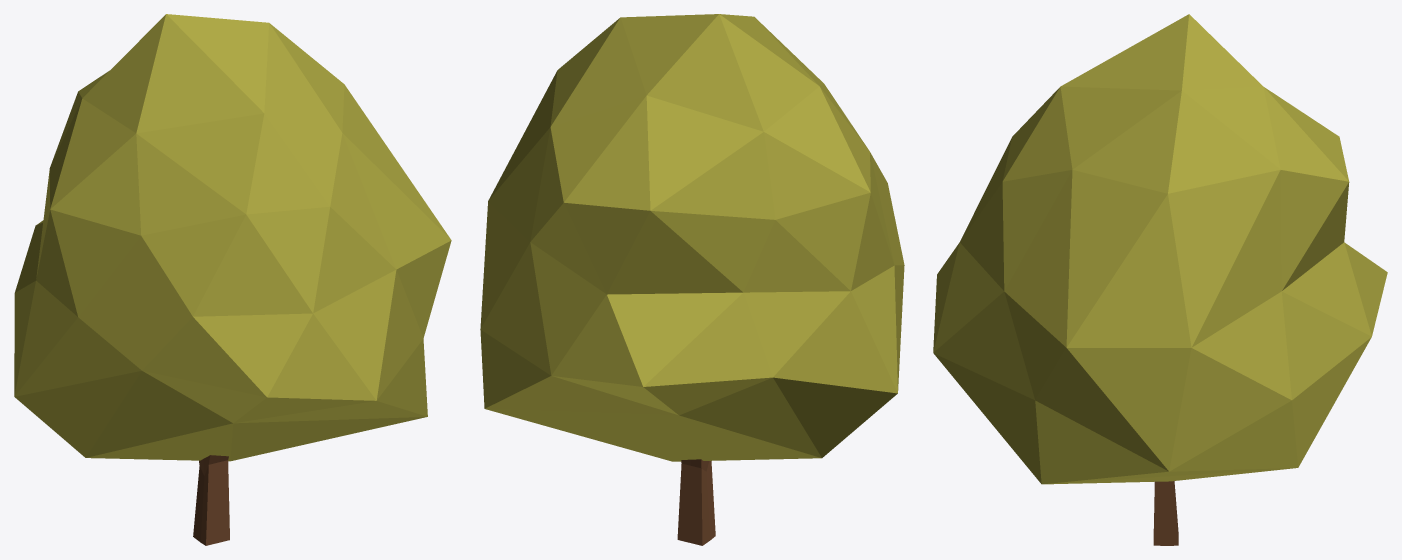
The model's file is Tree_57_Yellow.fbx.
3 renders of one model, left to right at view 1: azimuth 30°, elevation 25°; view 2: azimuth 150°, elevation 25°; view 3: azimuth 270°, elevation 25°, orthographic. The views are drawn at different scales.
Parts seen in each view (by area): view 1: Tree_57_Yellow_Part_1, Tree_57_Yellow_Part_2; view 2: Tree_57_Yellow_Part_1, Tree_57_Yellow_Part_2; view 3: Tree_57_Yellow_Part_1, Tree_57_Yellow_Part_2.
Part boxes in pixels (x1=…): Tree_57_Yellow_Part_1: x1=14, y1=14, x2=451, y2=461; Tree_57_Yellow_Part_2: x1=193, y1=455, x2=229, y2=545; Tree_57_Yellow_Part_1: x1=480, y1=14, x2=904, y2=461; Tree_57_Yellow_Part_2: x1=677, y1=459, x2=715, y2=545; Tree_57_Yellow_Part_1: x1=933, y1=14, x2=1387, y2=484; Tree_57_Yellow_Part_2: x1=1153, y1=481, x2=1178, y2=545.
Size of the model in its own units: 643 by 801 by 647.
